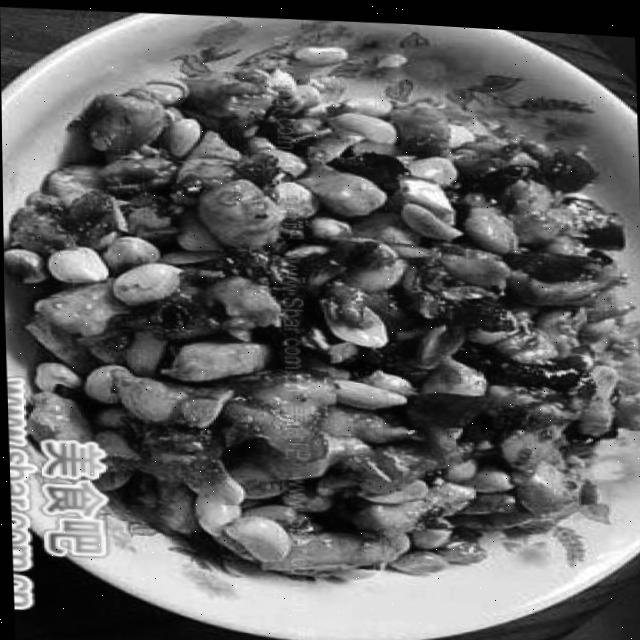鸡肉料理 含炸鸡: (0, 11, 635, 625)
